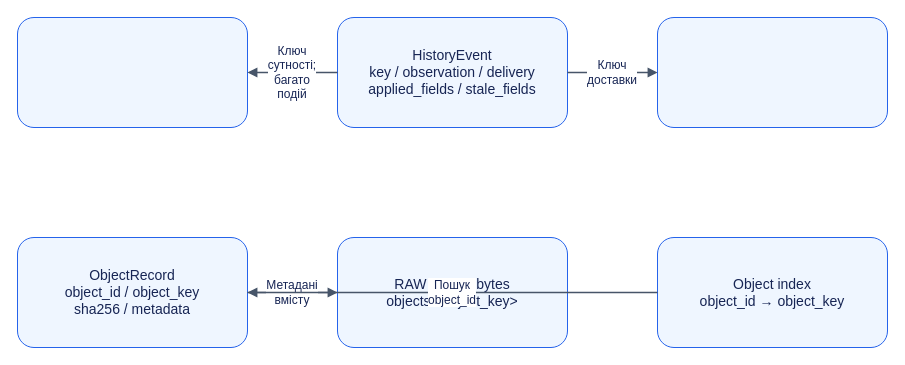
Image size: 905x365. Some labels were removed from this diagram. Each missing label, with the centre of its shape:
DeliveryRecord delivery_key / acks recorded_at: point (772, 72)
EntitySnapshot entity_type / canonical_key fields / field_orders / version: point (132, 72)
